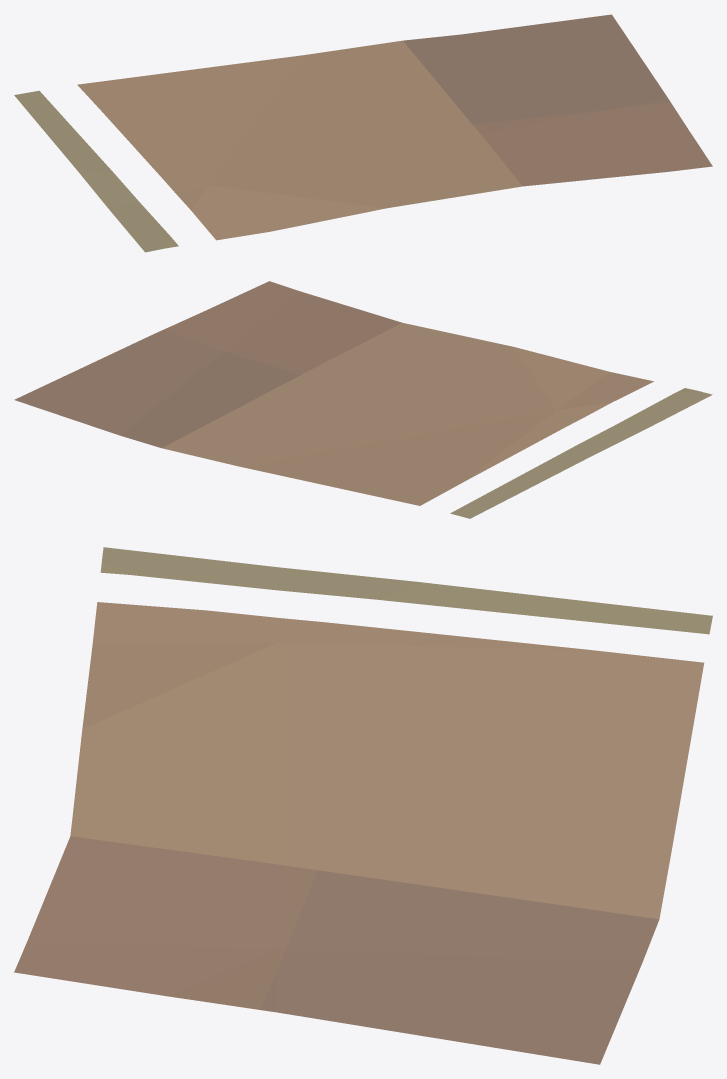
Rendered from farm_-58_-55_soil.glb.
The picture shows the model from 3 angles, top to bottom: view 1: azimuth 30°, elevation 25°; view 2: azimuth 150°, elevation 25°; view 3: azimuth 270°, elevation 25°; orthographic projection. The views are drawn at different scales.
Parts seen in each view (by area): view 1: geometry_0; view 2: geometry_0; view 3: geometry_0.
Part boxes in pixels (x1,y1,x2,y2): geometry_0: [14, 14, 712, 252]; geometry_0: [14, 281, 712, 518]; geometry_0: [14, 547, 712, 1064].
Size of the model in its own units: 134 by 7.81 by 86.31.
